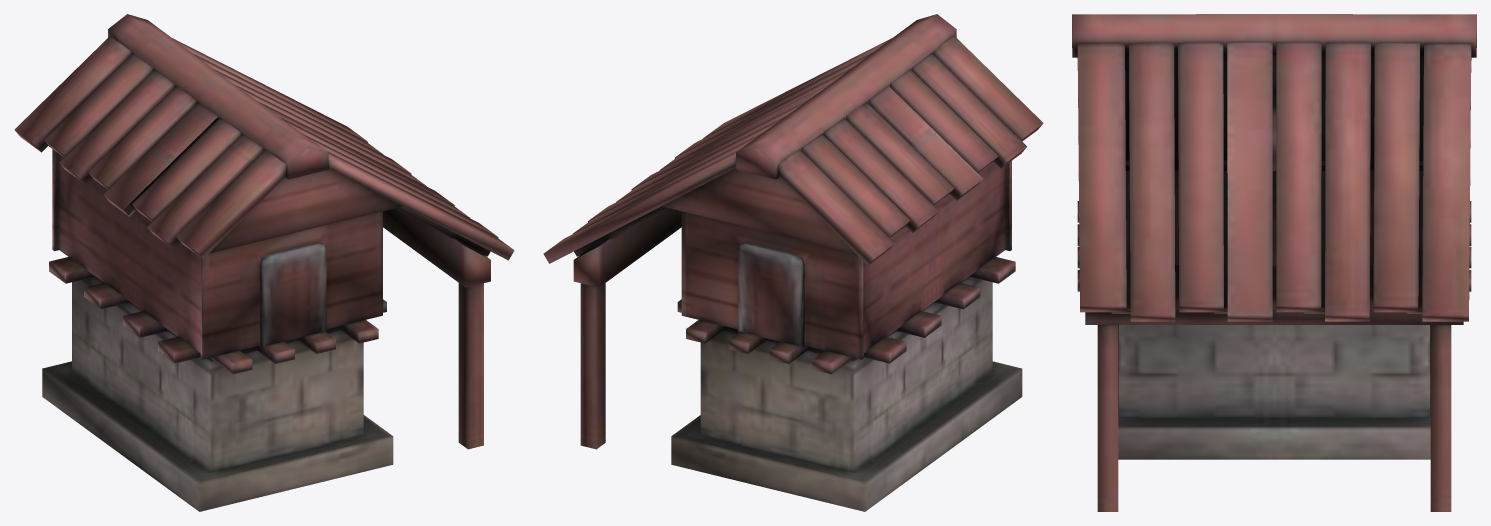
File: Granary.glb
3 views of the same model, side by side, from view 1: azimuth 30°, elevation 25°; view 2: azimuth 150°, elevation 25°; view 3: azimuth 270°, elevation 25° (orthographic). The views are drawn at different scales.
Parts seen in each view (by area): view 1: low; view 2: low; view 3: low.
Boxes of the visible parts, <box> form: low: <box>14,14,514,511</box>; low: <box>543,14,1043,511</box>; low: <box>1072,14,1476,511</box>.
Size of the model in its own units: 4.74 by 4.81 by 4.47.
1 material, 1 textured.
